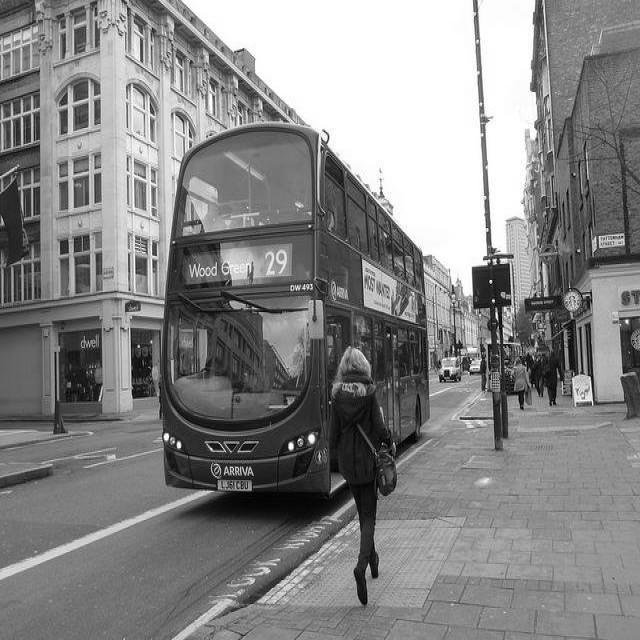vehicle: (160, 122, 430, 504), (438, 357, 461, 383), (461, 354, 485, 373), (468, 361, 480, 375)
